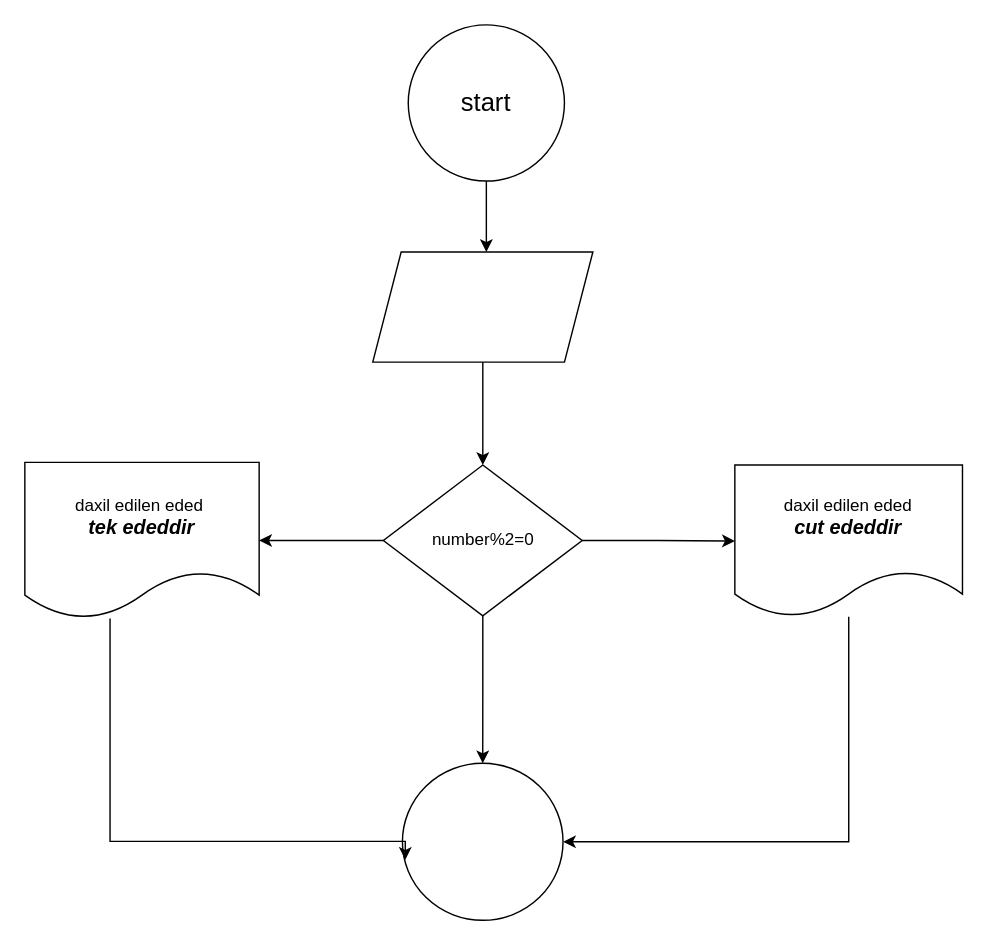
This 988x946 diagram has some shape labels left out. The shapes that lost their labels are listed below. From the top down, each one's centre as x and y in pixels, then its label:
At point 482,306: "number".
At point 482,841: "end".
